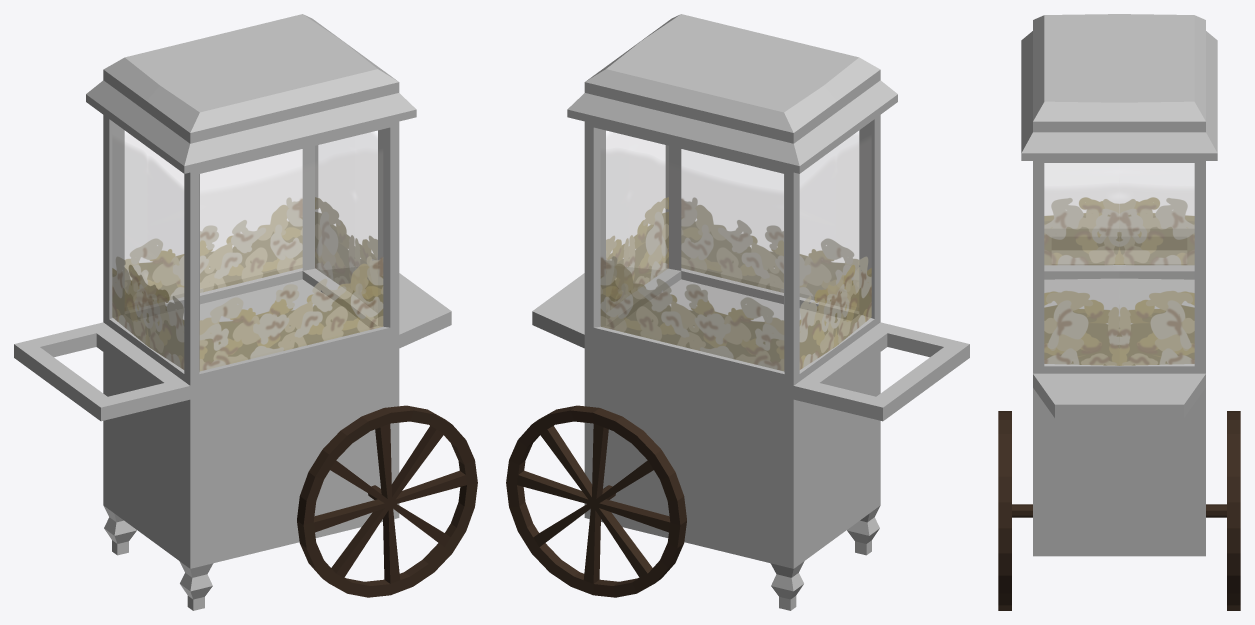
Rendered from popcornwagon.fbx.
The picture shows the model from 3 angles, left to right: view 1: azimuth 30°, elevation 25°; view 2: azimuth 150°, elevation 25°; view 3: azimuth 270°, elevation 25°; orthographic projection.
Parts seen in each view (by area): view 1: Cube.001; view 2: Cube.001; view 3: Cube.001.
Boxes of the visible parts, x1,y1,x2,y2 form: Cube.001: [14, 14, 477, 610]; Cube.001: [506, 14, 969, 610]; Cube.001: [998, 14, 1240, 610].
Size of the model in its own units: 346 by 463 by 201.
